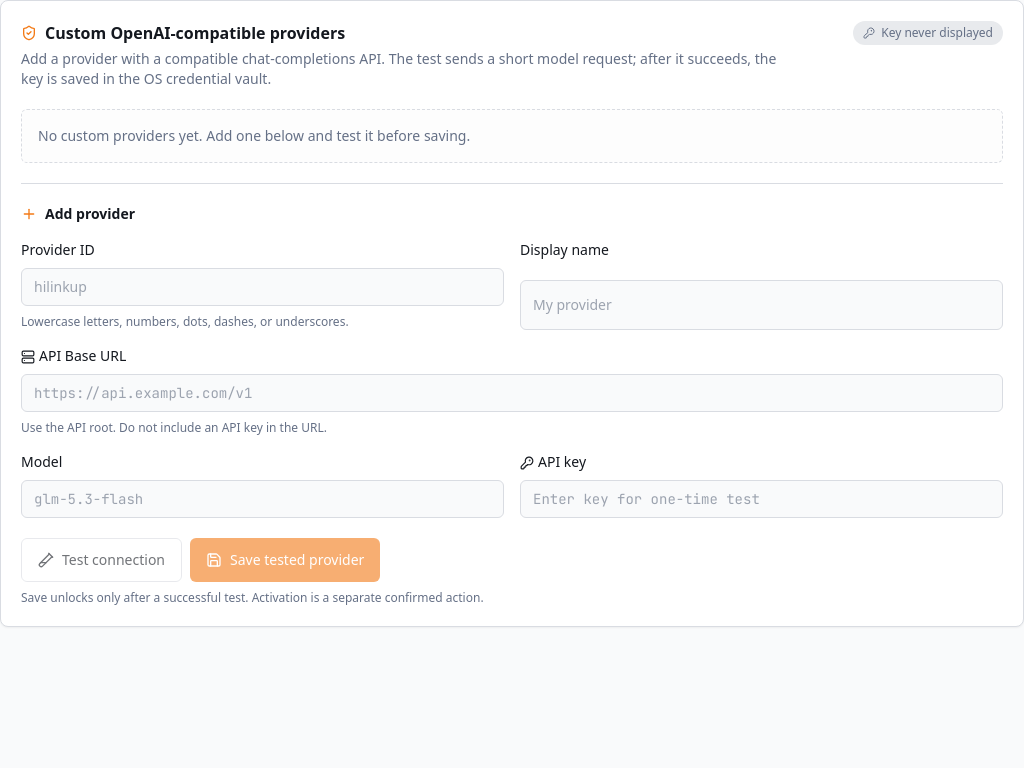
Test: CustomProviderManager › shows a provider test failure inside the manager
Type "https://example.com/v1" into the field labelled "API Base URL" at [512, 393], box top-left (21, 374), bottom-right (1003, 412)
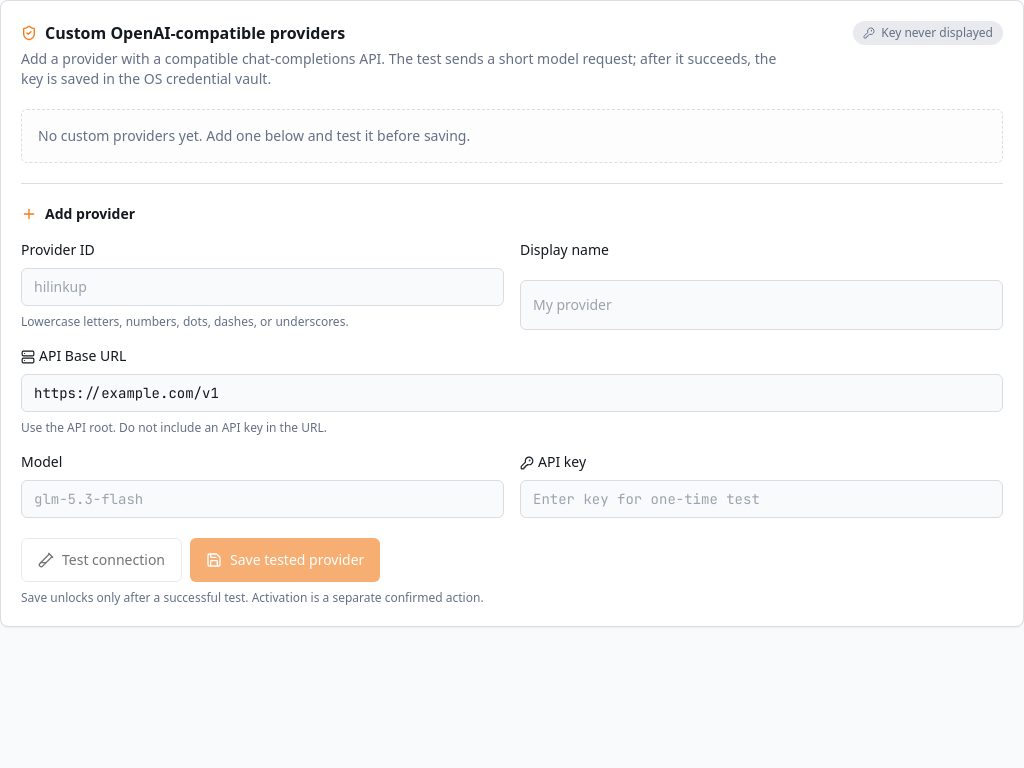
Type "demo-model" into the field labelled "Model" at [262, 499], box top-left (21, 480), bottom-right (504, 518)
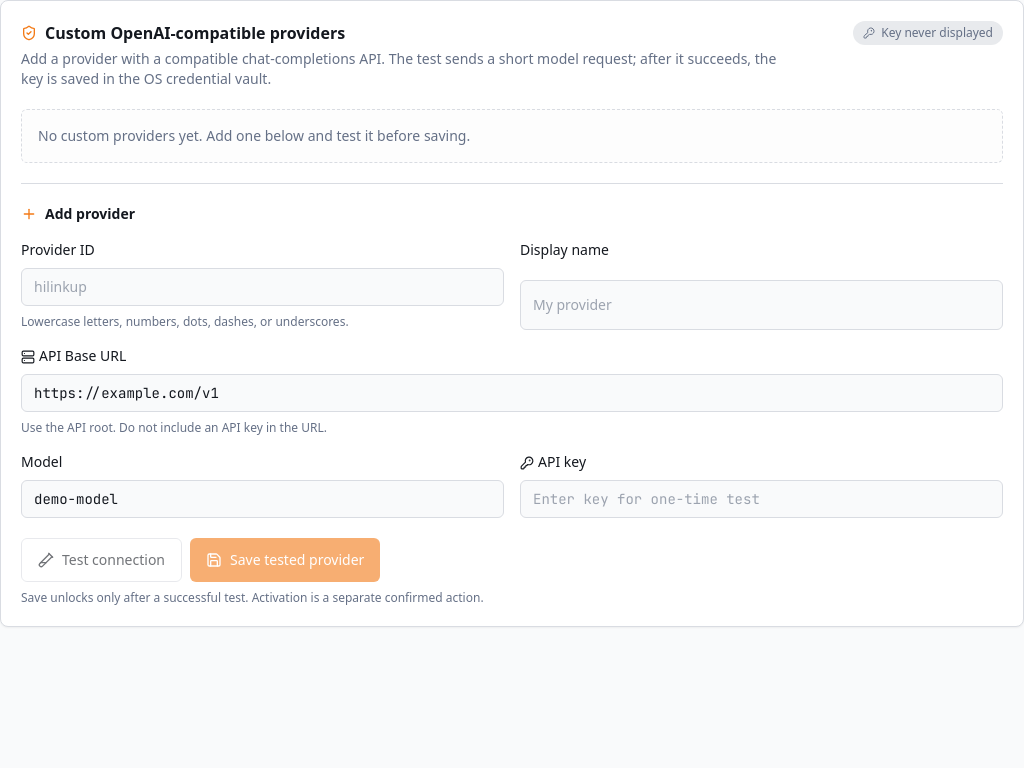
Type "synthetic-key" into the password field labelled "API key" at [762, 499], box top-left (520, 480), bottom-right (1003, 518)
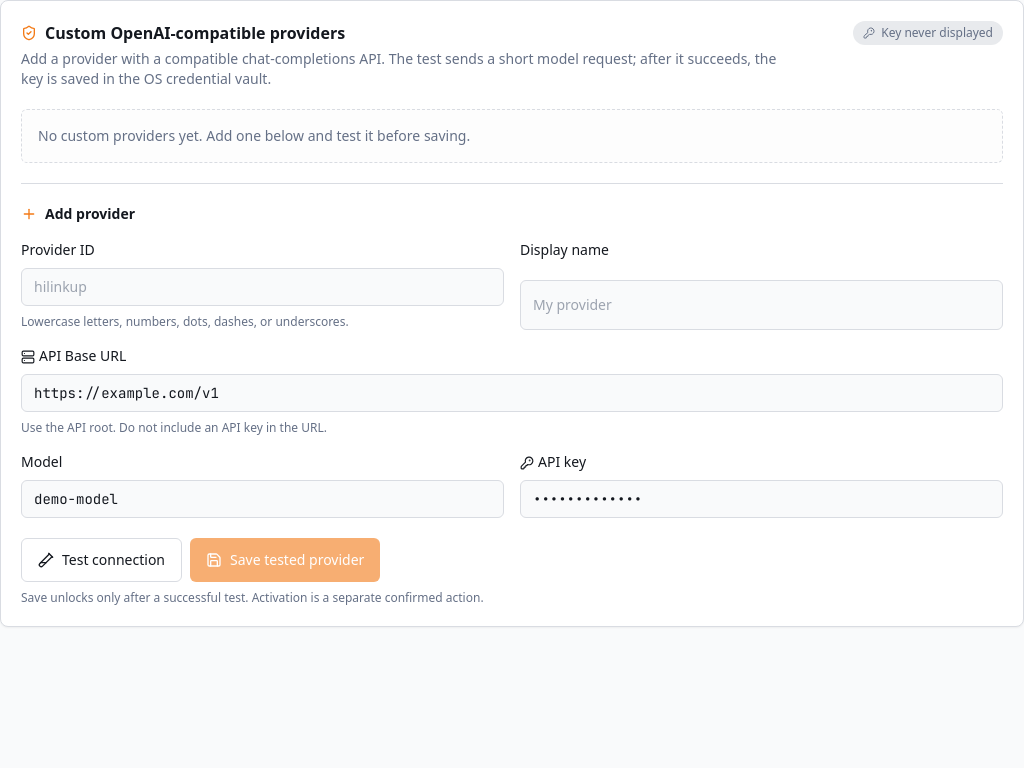
Click the button "Test connection" at [102, 560], box top-left (21, 538), bottom-right (182, 582)
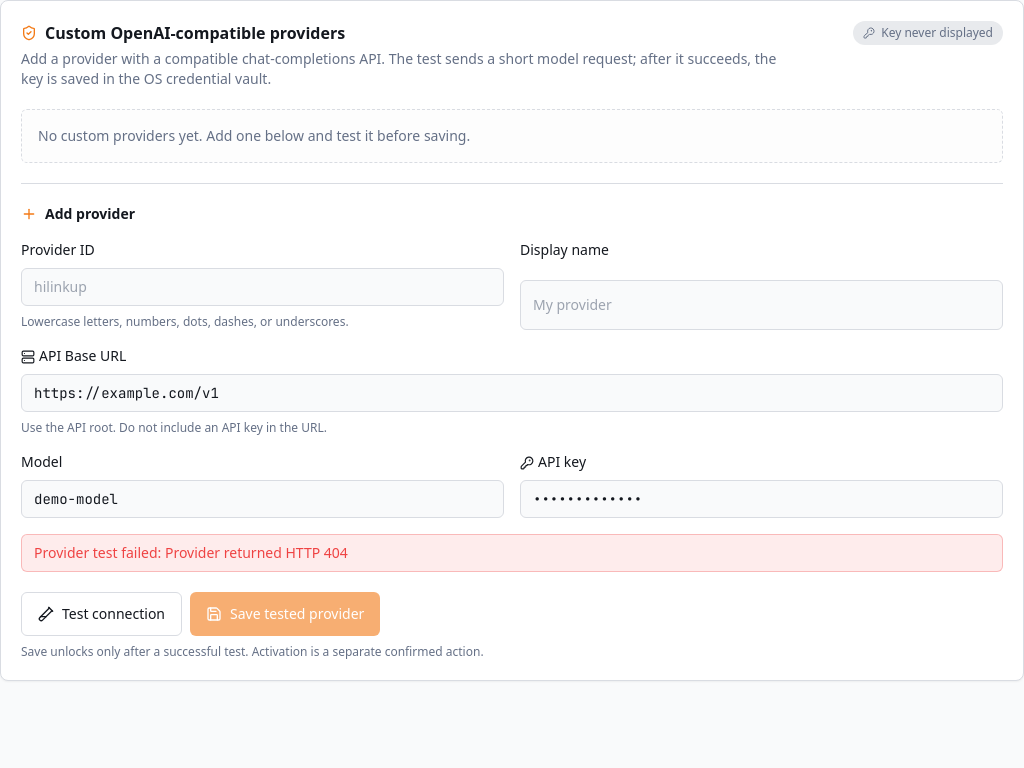
Expected: the button "Save tested provider" is disabled, top-left (190, 592), bottom-right (380, 636)
Now the button "Test connection" is enabled, box top-left (21, 592), bottom-right (182, 636)
Now the message shows "Provider returned HTTP 404", box top-left (34, 543), bottom-right (348, 562)
